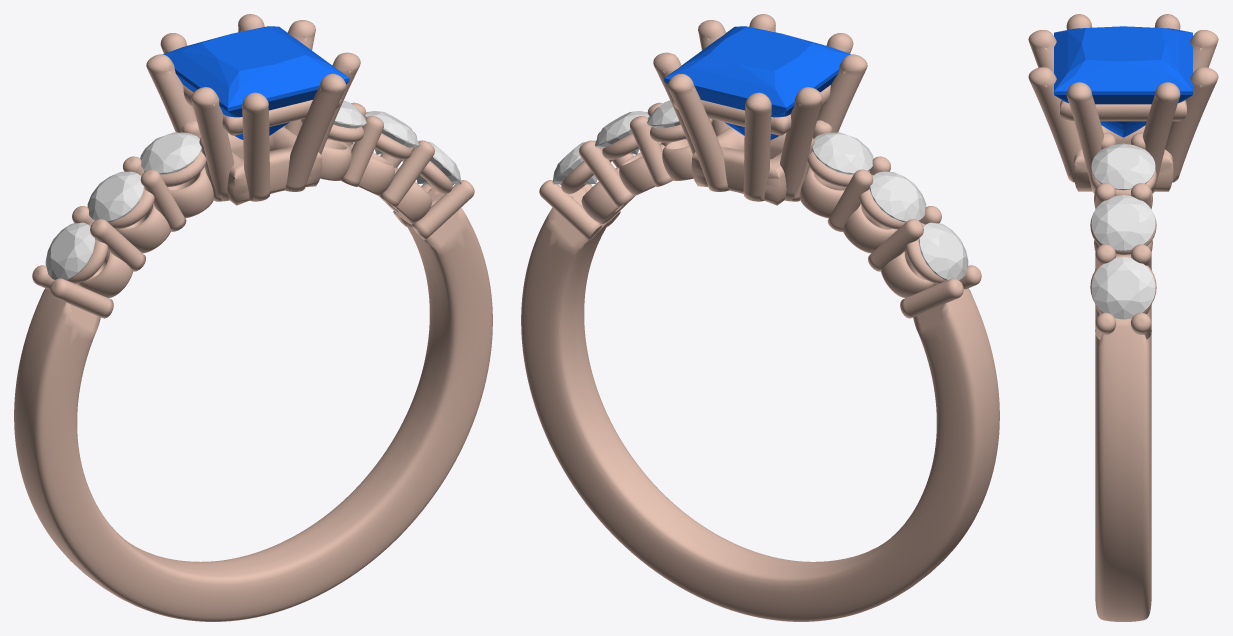
File: bluesapphire-princess-rosegold-8prong-straightband-7stone.glb
The picture shows the model from 3 angles, left to right: view 1: azimuth 30°, elevation 25°; view 2: azimuth 150°, elevation 25°; view 3: azimuth 270°, elevation 25°; orthographic projection.
Parts seen in each view (by area): view 1: metal, stone, side, side.001, side.002, side.004, side.005; view 2: metal, stone, side, side.001, side.002, side.004, side.005; view 3: metal, stone, side.005, side.004, side.003.
Part boxes in pixels (<box>): metal: <box>14,14,492,621</box>; stone: <box>163,26,349,139</box>; side: <box>45,222,95,280</box>; side.001: <box>87,171,144,222</box>; side.002: <box>140,132,201,174</box>; side.004: <box>364,111,419,154</box>; side.005: <box>416,140,461,184</box>; metal: <box>521,14,999,621</box>; stone: <box>664,26,850,139</box>; side: <box>918,222,968,280</box>; side.001: <box>869,171,926,222</box>; side.002: <box>812,132,873,174</box>; side.004: <box>594,111,649,154</box>; side.005: <box>552,140,597,184</box>; metal: <box>1028,14,1218,621</box>; stone: <box>1054,26,1192,137</box>; side.005: <box>1091,257,1155,319</box>; side.004: <box>1091,195,1155,251</box>; side.003: <box>1091,143,1155,190</box>.
Bounding box in the file's own units: 20.51 × 23.85 × 7.42.
